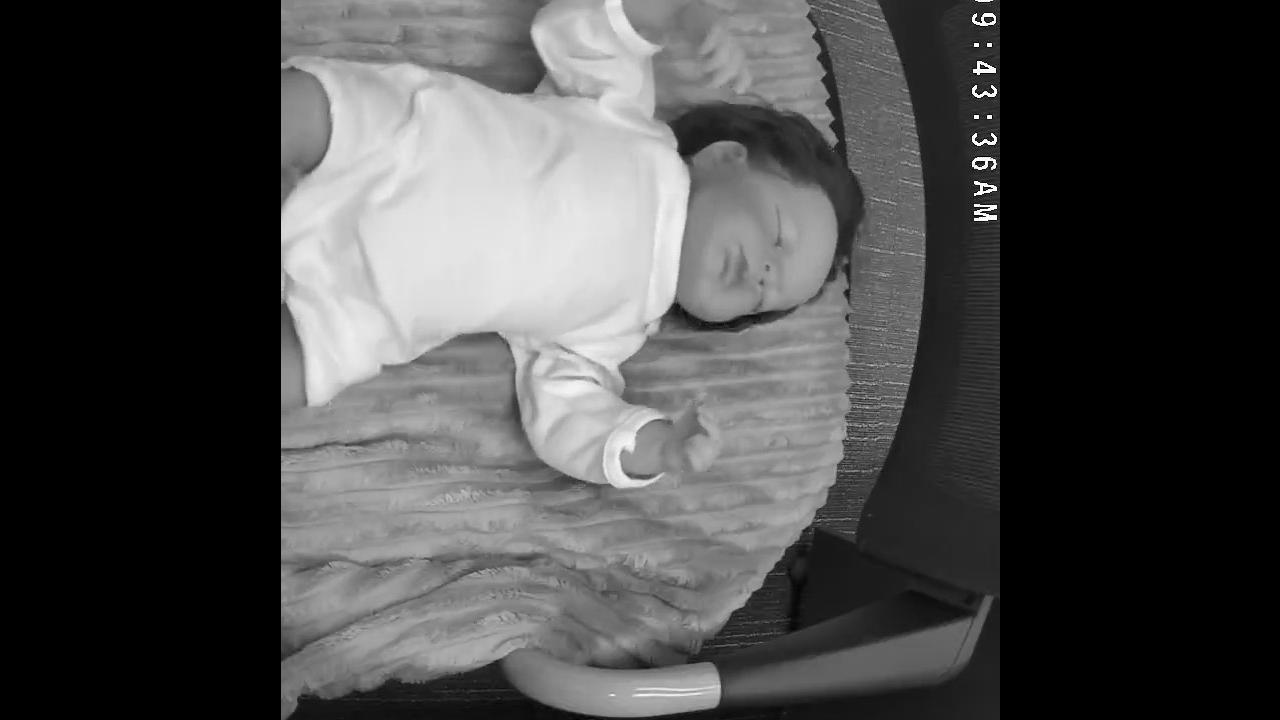hand: (684, 17, 752, 97), (662, 388, 723, 476)
